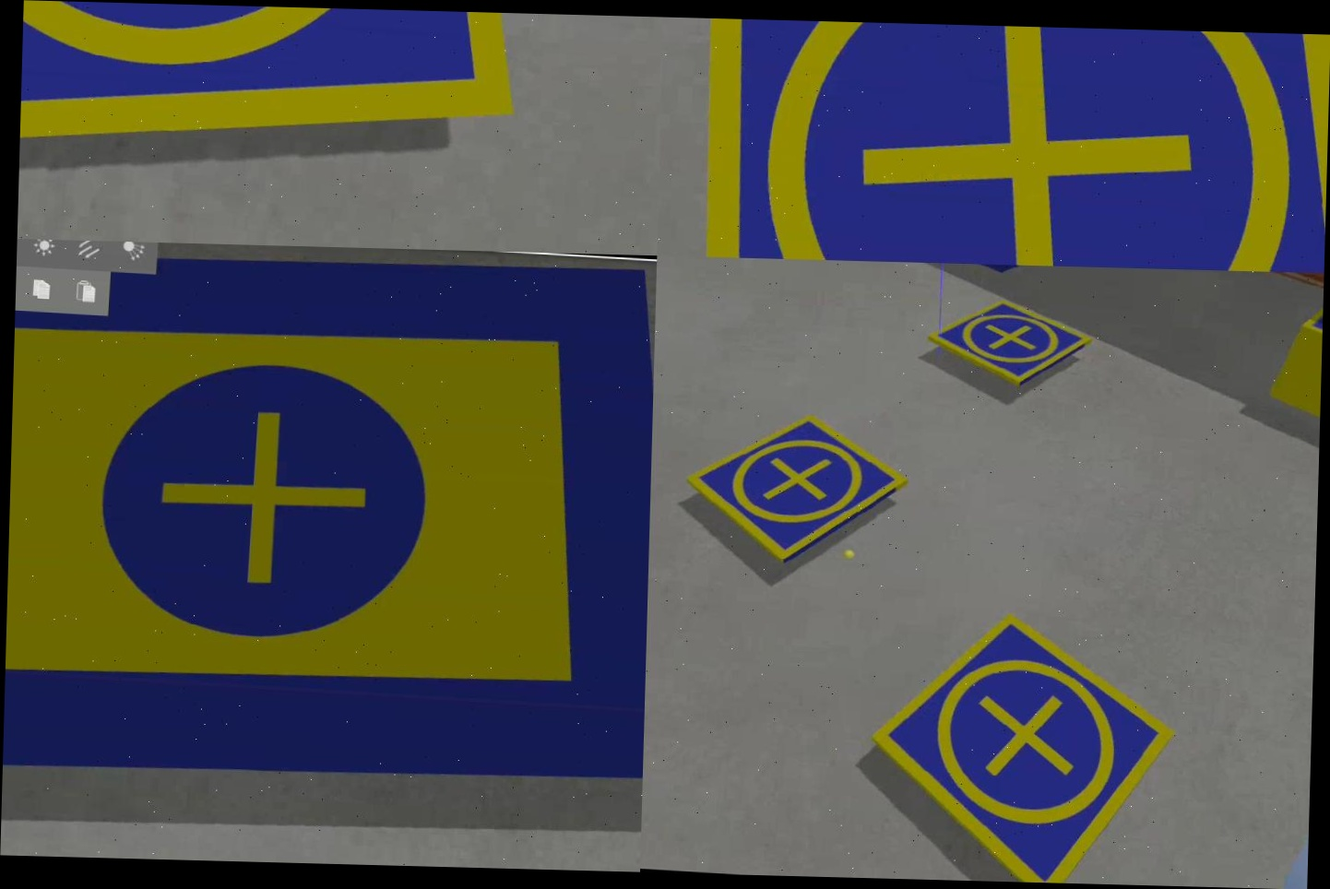large_base: (2, 239, 657, 812)
small_base: (683, 18, 1330, 273), (18, 0, 540, 191), (862, 605, 1181, 885), (681, 409, 913, 572), (925, 293, 1096, 394)
